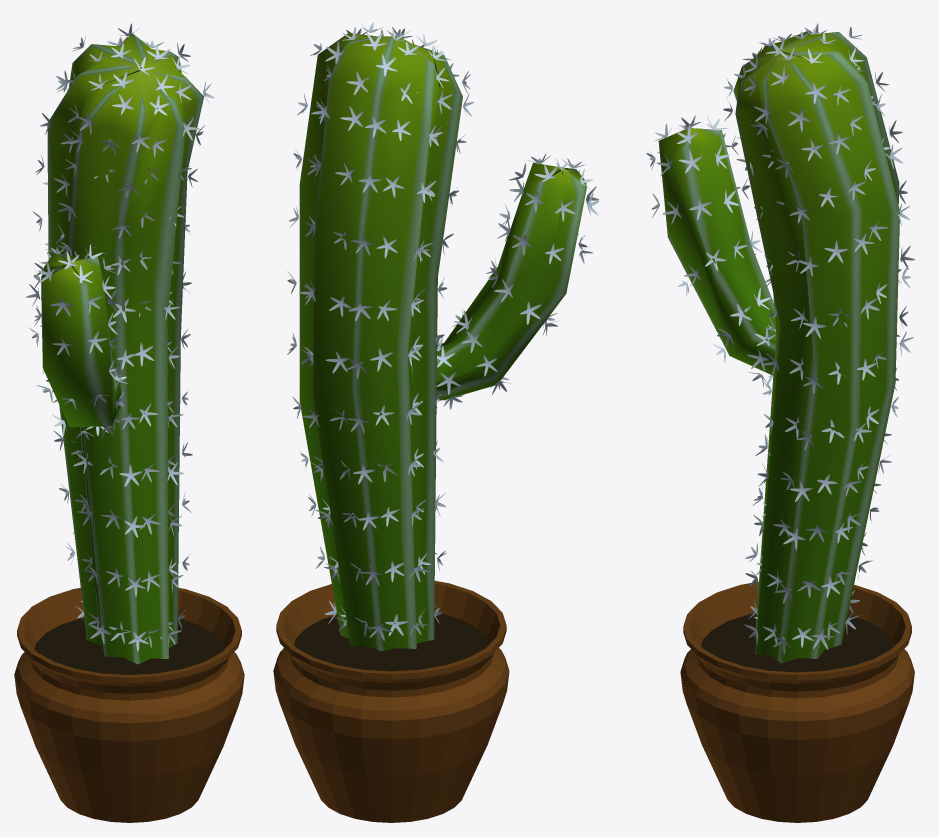
Rendered from cactus.glb.
The picture shows the model from 3 angles, left to right: view 1: azimuth 30°, elevation 25°; view 2: azimuth 150°, elevation 25°; view 3: azimuth 270°, elevation 25°; orthographic projection. The views are drawn at different scales.
Parts seen in each view (by area): view 1: cactus_4; view 2: cactus_4; view 3: cactus_4.
Part boxes in pixels (x1=…): cactus_4: x1=14, y1=23, x2=244, y2=822; cactus_4: x1=273, y1=22, x2=598, y2=822; cactus_4: x1=646, y1=23, x2=914, y2=822.
Bounding box in the file's own units: 1.83 × 5.18 × 1.74.
Materials: 4 (2 with a texture image).
